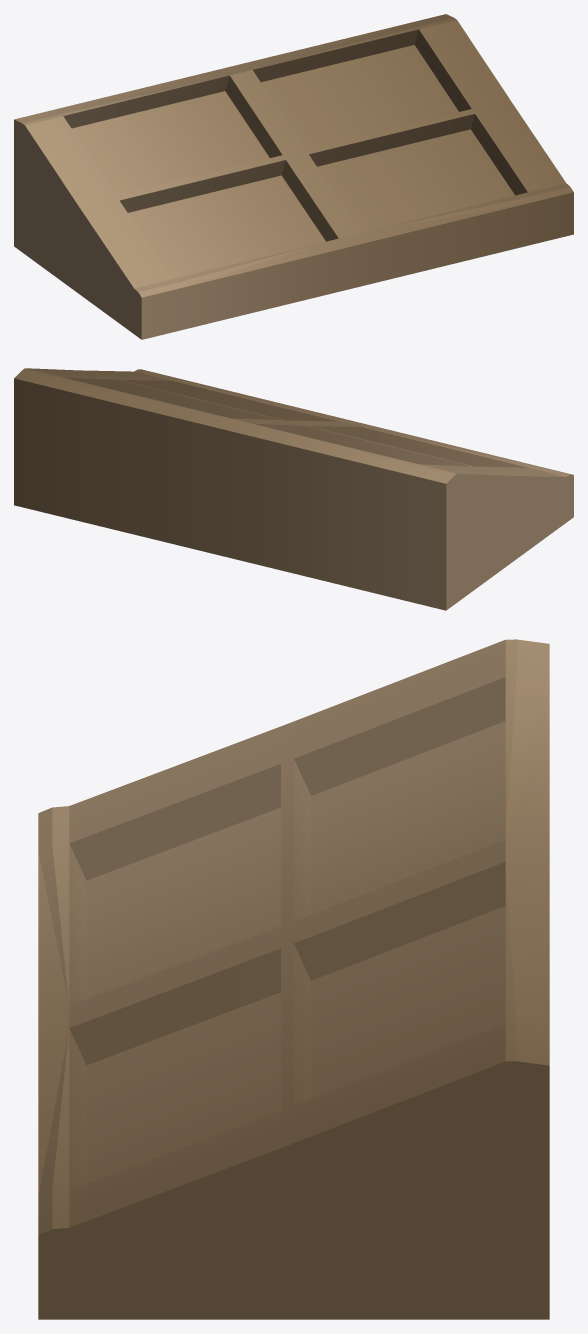
The model's file is MarketStall_Tray_4.fbx.
3 renders of one model, top to bottom at view 1: azimuth 30°, elevation 25°; view 2: azimuth 150°, elevation 25°; view 3: azimuth 270°, elevation 25°, orthographic. The views are drawn at different scales.
Visible parts, largest first — view 1: MarketStall_Tray_4; view 2: MarketStall_Tray_4; view 3: MarketStall_Tray_4.
Boxes of the visible parts, x1=… form: MarketStall_Tray_4: x1=14, y1=14, x2=573, y2=339; MarketStall_Tray_4: x1=14, y1=368, x2=573, y2=610; MarketStall_Tray_4: x1=38, y1=639, x2=549, y2=1319.
Bounding box in the file's own units: 2.1 × 0.5996 × 1.08.
Materials: 1 (1 with a texture image).
